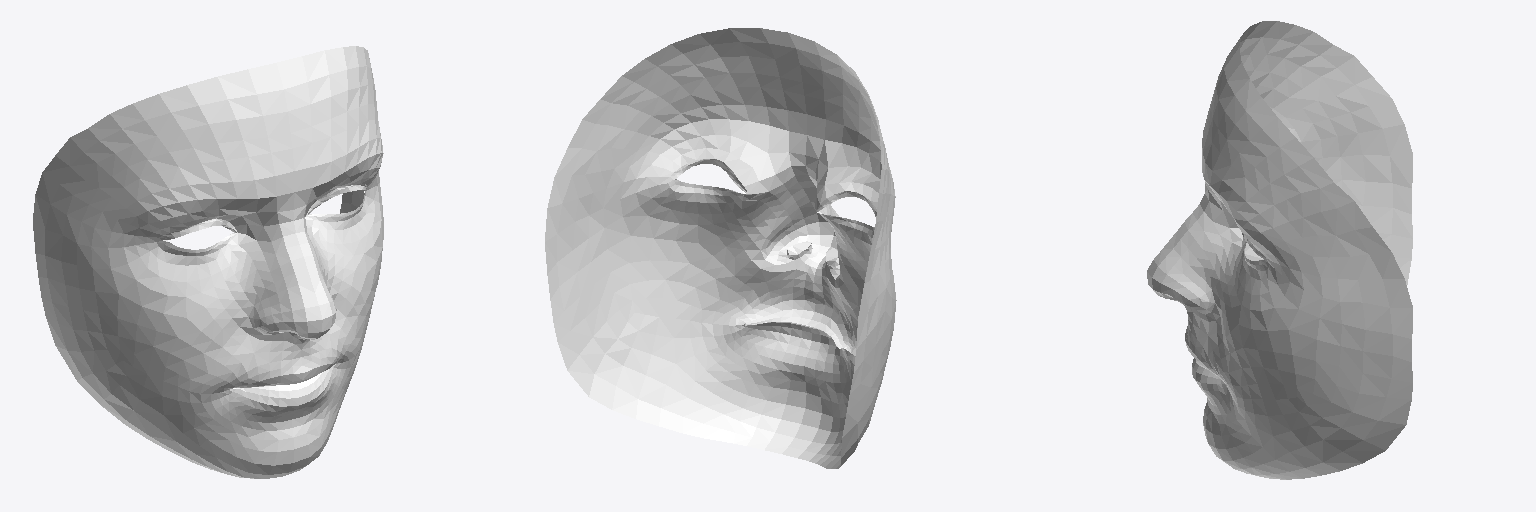
The model's file is eyeLookOut_L.obj.
3 renders of one model, left to right at view 1: azimuth 30°, elevation 25°; view 2: azimuth 150°, elevation 25°; view 3: azimuth 270°, elevation 25°, orthographic.
Visible parts, largest first — view 1: default; view 2: default; view 3: default.
Boxes of the visible parts, x1,y1,x2,y2 form: default: [33, 46, 383, 478]; default: [545, 28, 896, 468]; default: [1147, 21, 1412, 479].
Bounding box in the file's own units: 0.1447 × 0.182 × 0.1055.